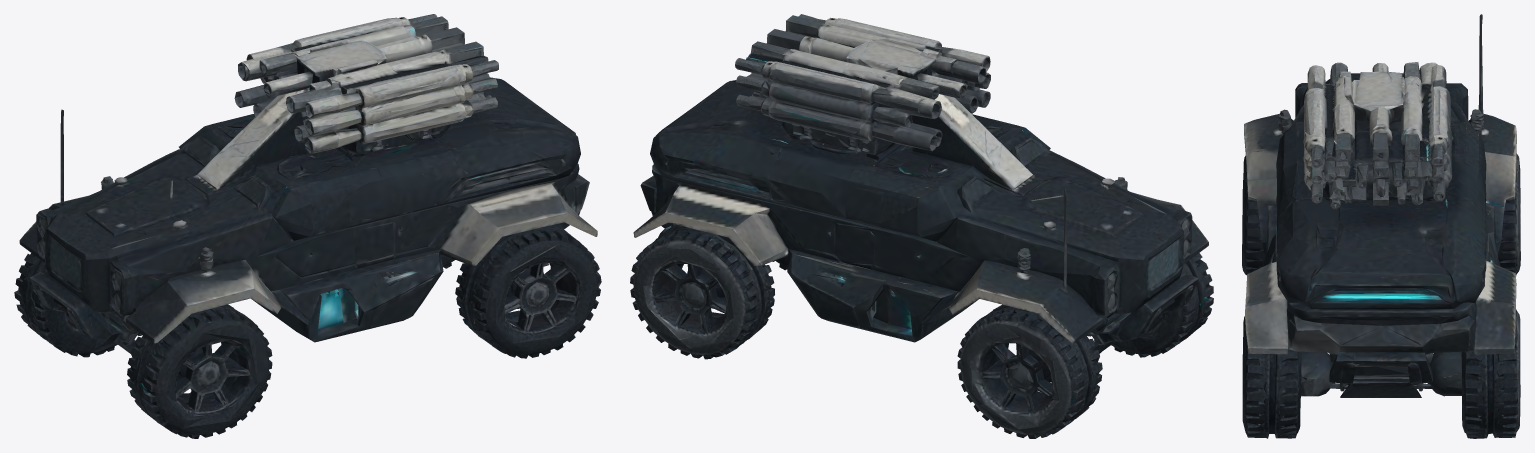
The model's file is v_mlrs.glb.
3 views of the same model, side by side, from view 1: azimuth 30°, elevation 25°; view 2: azimuth 150°, elevation 25°; view 3: azimuth 270°, elevation 25° (orthographic).
Visible parts, largest first — view 1: mesh_0; view 2: mesh_0; view 3: mesh_0.
Part boxes in pixels (x1,y1,x2,y2): mesh_0: (14,14,601,438); mesh_0: (630,14,1213,438); mesh_0: (1242,14,1520,438).
Size of the model in its own units: 1.9 by 1.02 by 0.9116.
Materials: 1 (1 with a texture image).
